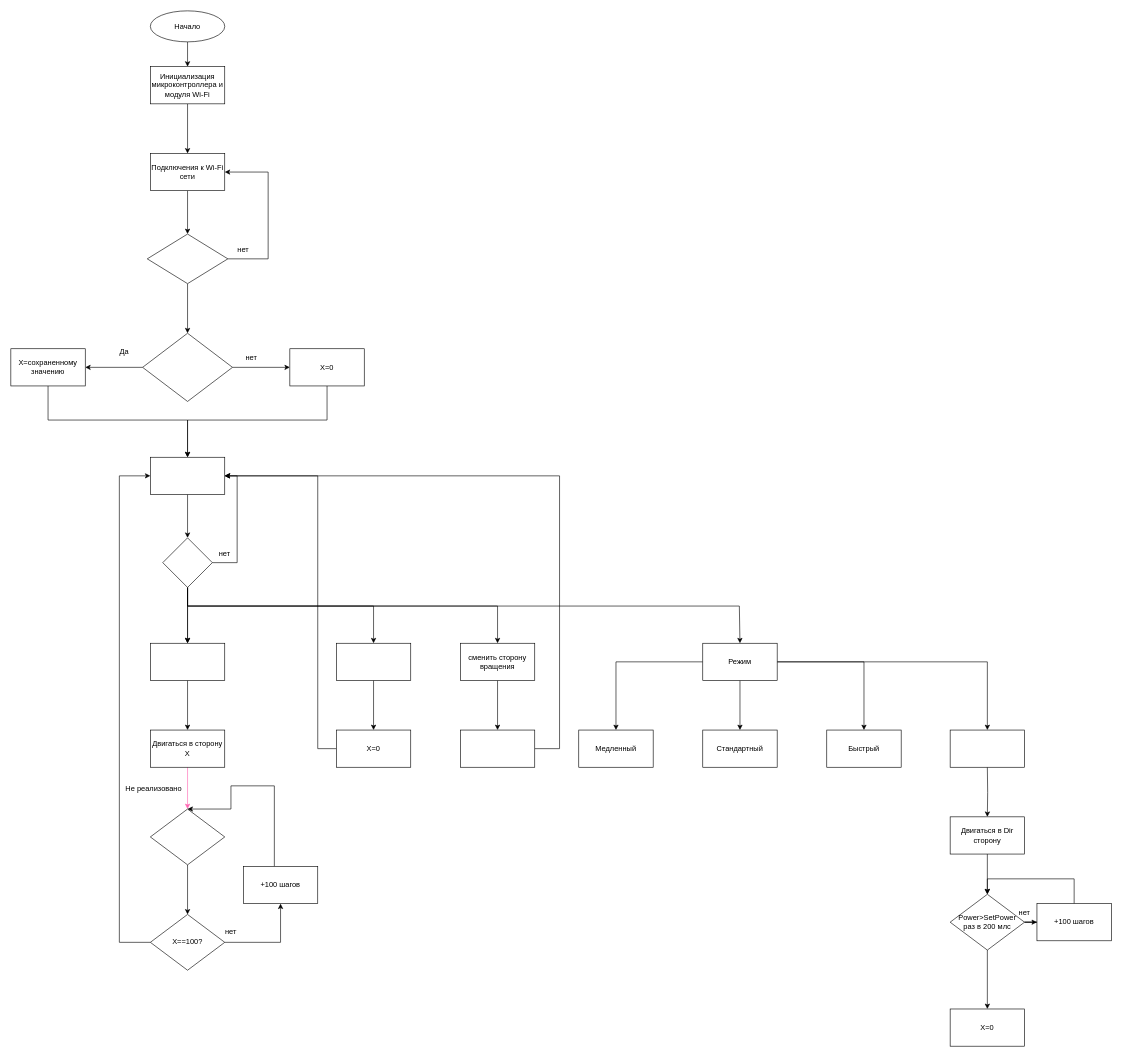
Some shapes in this 1122 by 1057 pixel diagram are drawn without their labels. Here are the shapes that lost their labels. From the top down, the centre of each, then its label:
At (x=187, y=258): "подключение установлено?".
At (x=187, y=367): "Есть сохраненная координата?".
At (x=187, y=475): "Ожидание команды".
At (x=187, y=562): "Команда есть?".
At (x=187, y=661): "X=value".
At (x=373, y=661): "обнуление".
At (x=497, y=748): "Dir=!Dir".
At (x=987, y=748): "Поиск крайнего положения".
At (x=187, y=836): "Power>SetPower".
